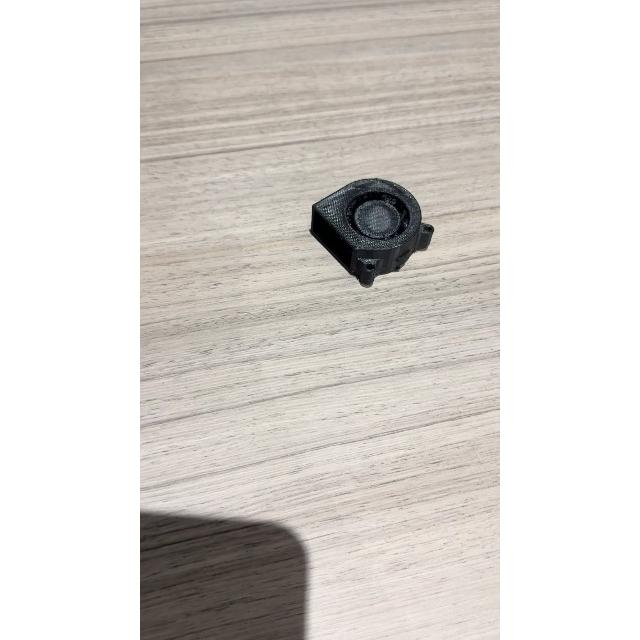Pieza_3: (296, 170, 440, 298)
